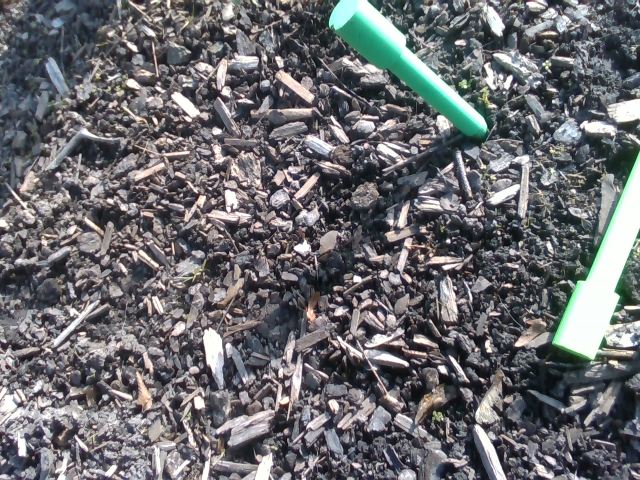Probe: (322, 1, 503, 149), (547, 141, 640, 367)
